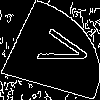V: (25, 24, 95, 72)
